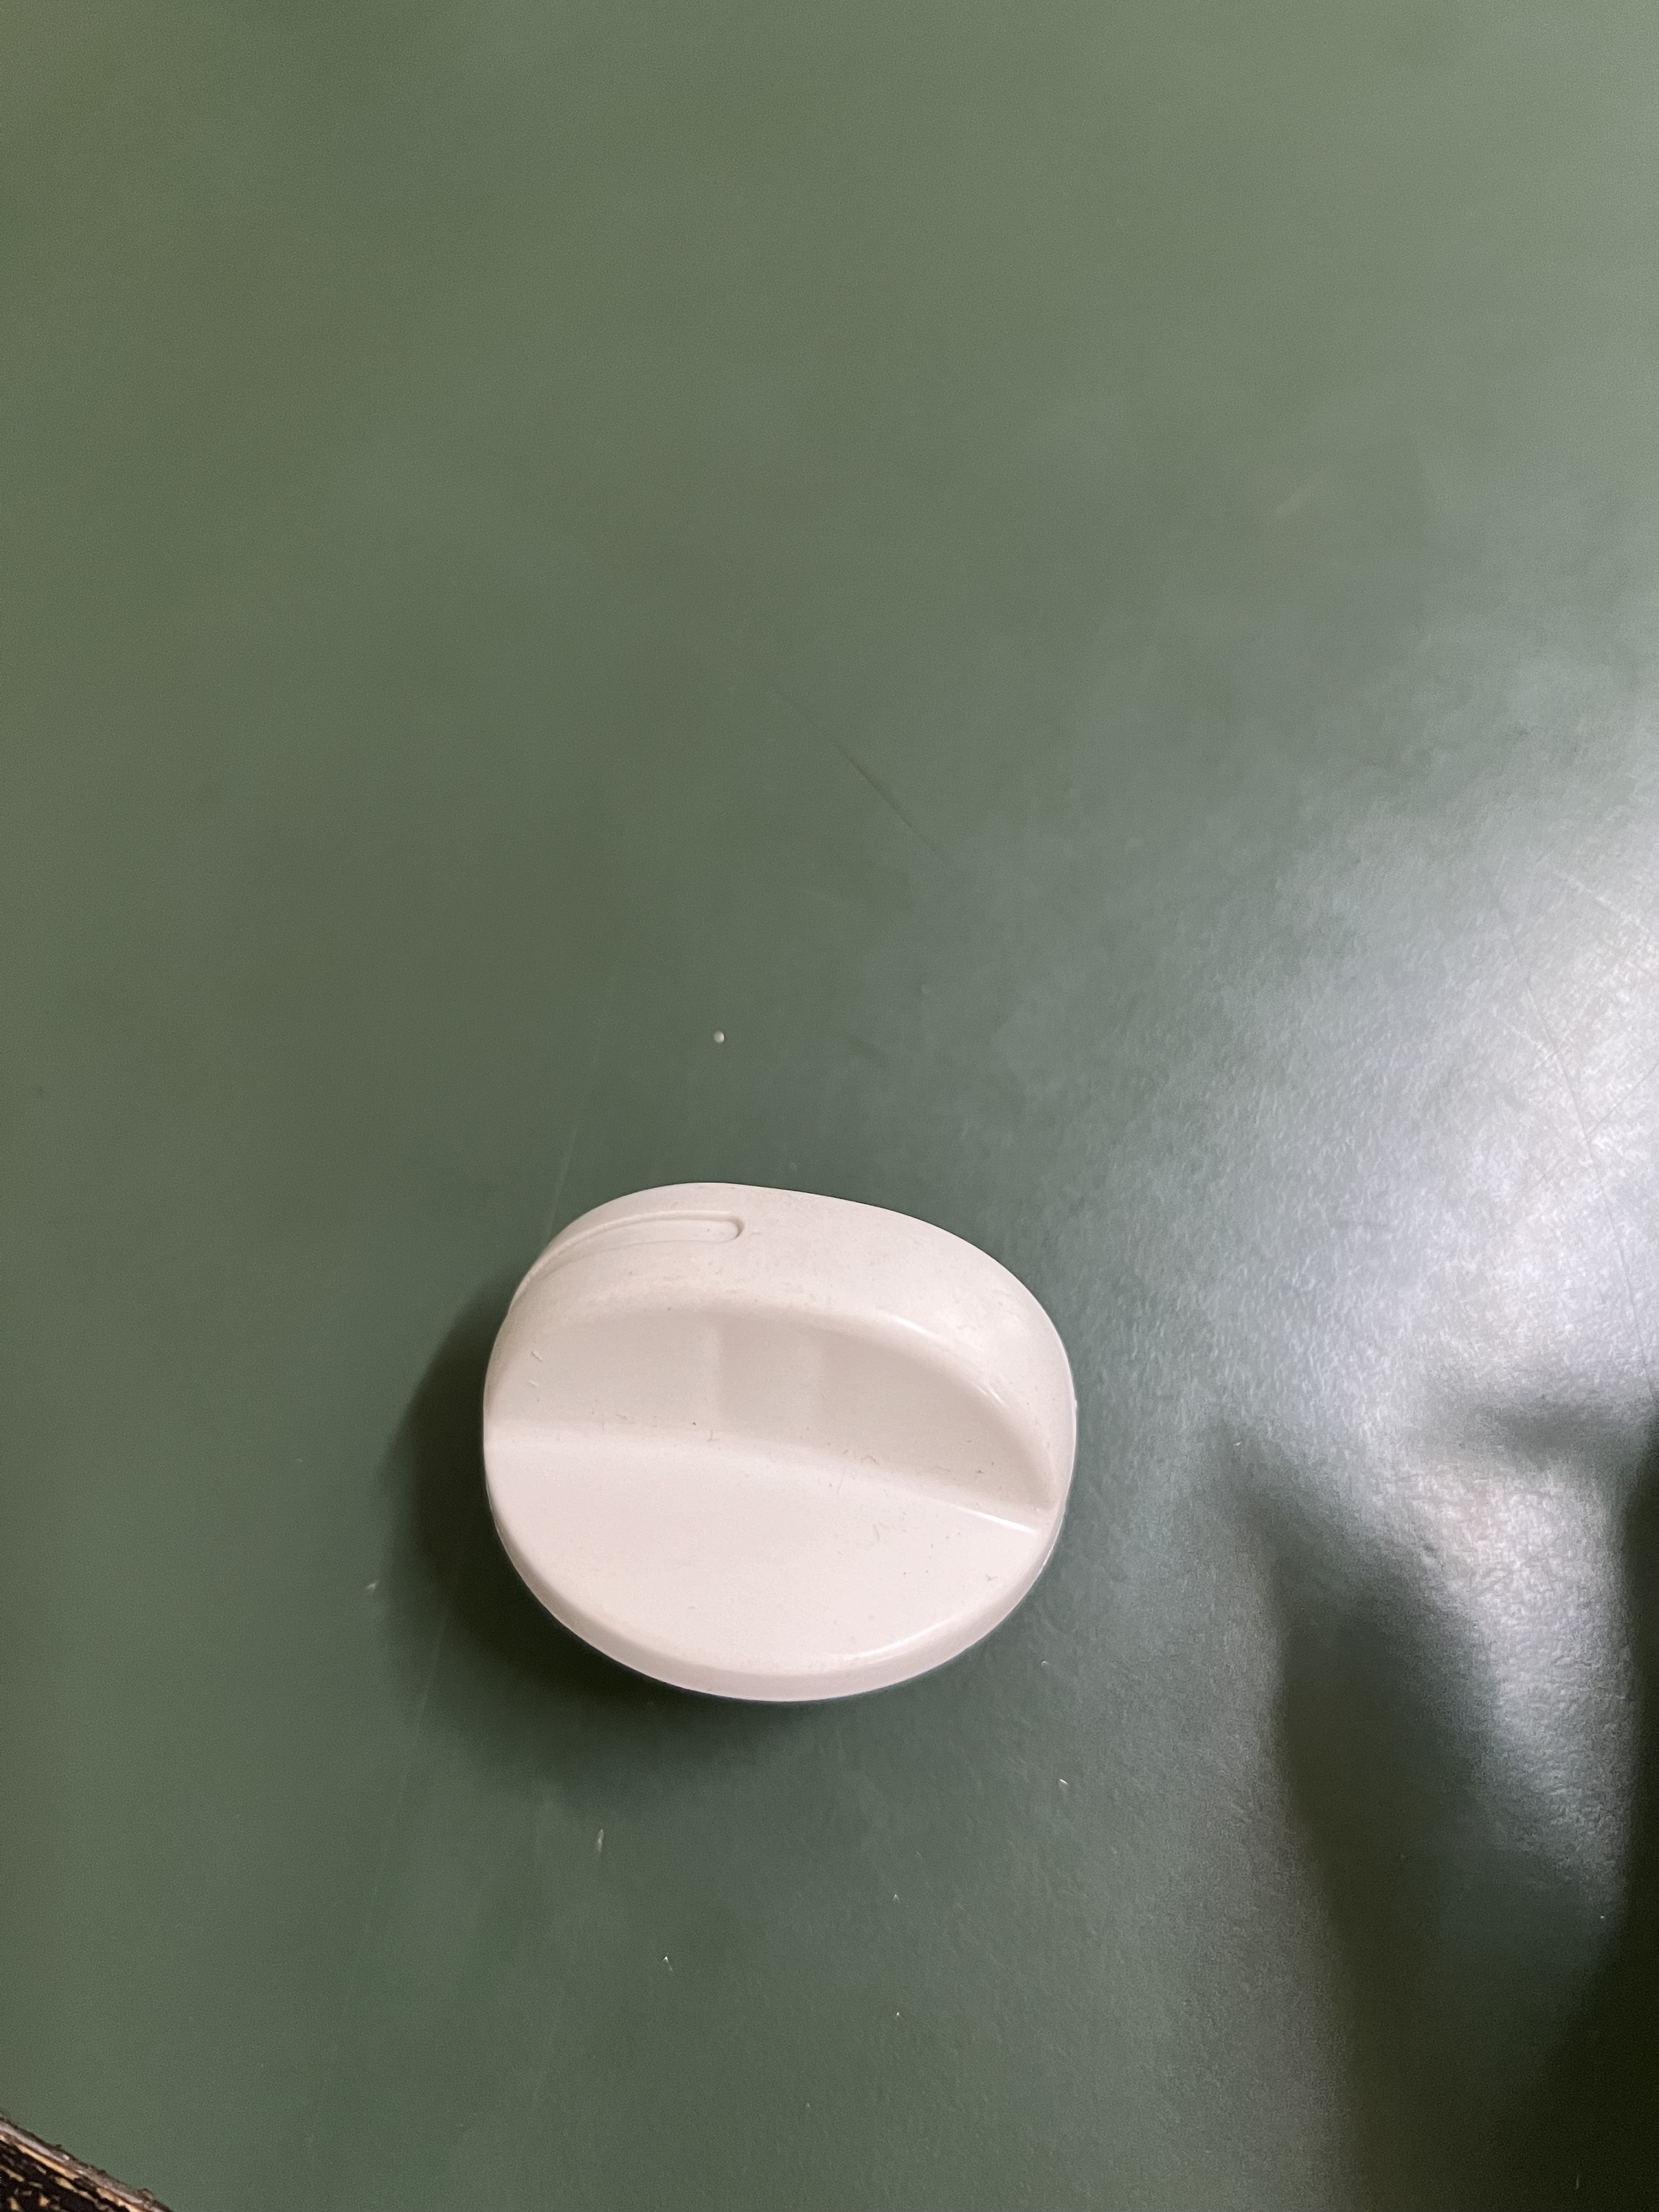regulator: (516, 1157, 1079, 1714)
